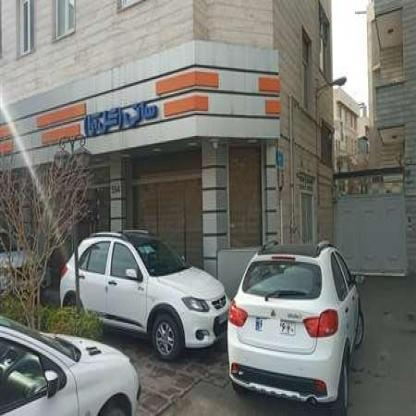Car: (228, 234, 364, 415), (64, 228, 226, 353), (0, 309, 135, 416), (0, 230, 43, 294)
